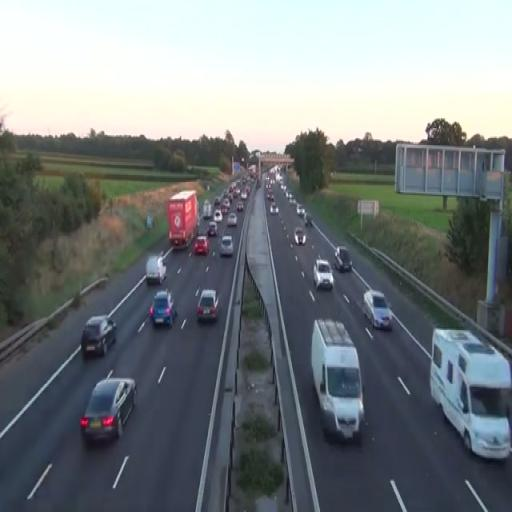Car: (80, 376, 136, 446), (81, 314, 117, 358), (362, 290, 393, 330), (151, 290, 174, 329), (196, 288, 220, 324), (312, 259, 334, 291), (334, 247, 352, 272), (219, 234, 234, 258), (194, 236, 208, 256), (294, 226, 306, 246), (207, 222, 217, 237), (227, 213, 237, 228)
Truck: (429, 326, 512, 462), (310, 317, 366, 445), (168, 190, 198, 249)
